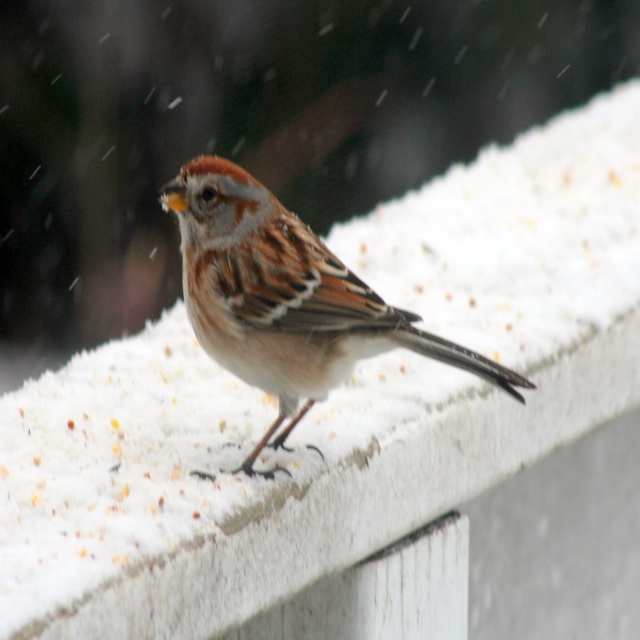Sparrow: (155, 152, 537, 480)
